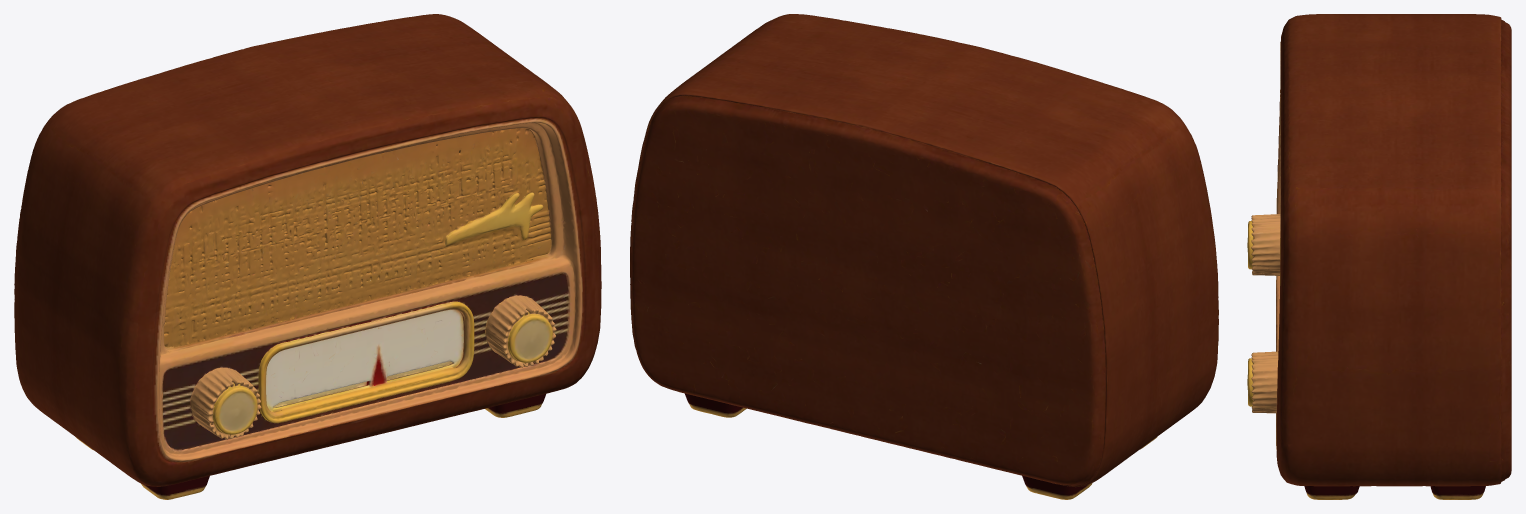
The model's file is radiolow.glb.
3 renders of one model, left to right at view 1: azimuth 30°, elevation 25°; view 2: azimuth 150°, elevation 25°; view 3: azimuth 270°, elevation 25°, orthographic. The views are drawn at different scales.
Bounding box in the file's own units: 1 × 0.6708 × 0.4993.
Materials: 1 (1 with a texture image).
